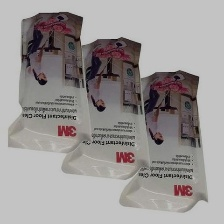cleaning_solution: (57, 33, 154, 183), (116, 66, 211, 214), (3, 9, 96, 155)
